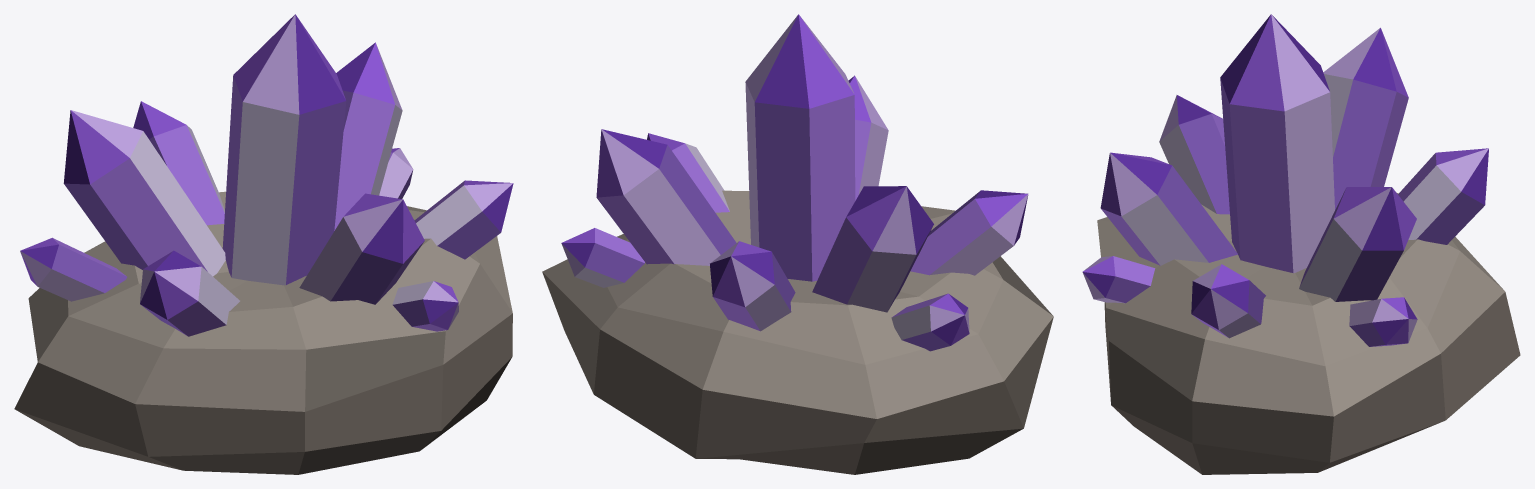
Rendered from treasure_amethyst.glb.
3 views of the same model, side by side, from view 1: azimuth 30°, elevation 25°; view 2: azimuth 150°, elevation 25°; view 3: azimuth 270°, elevation 25° (orthographic). The views are drawn at different scales.
Visible parts, largest first — view 1: treasure_amethyst; view 2: treasure_amethyst; view 3: treasure_amethyst.
Boxes of the visible parts, x1,y1,x2,y2 form: treasure_amethyst: (14, 14, 513, 474); treasure_amethyst: (542, 14, 1053, 474); treasure_amethyst: (1082, 14, 1520, 474).
Size of the model in its own units: 0.1634 by 0.1268 by 0.1301.
